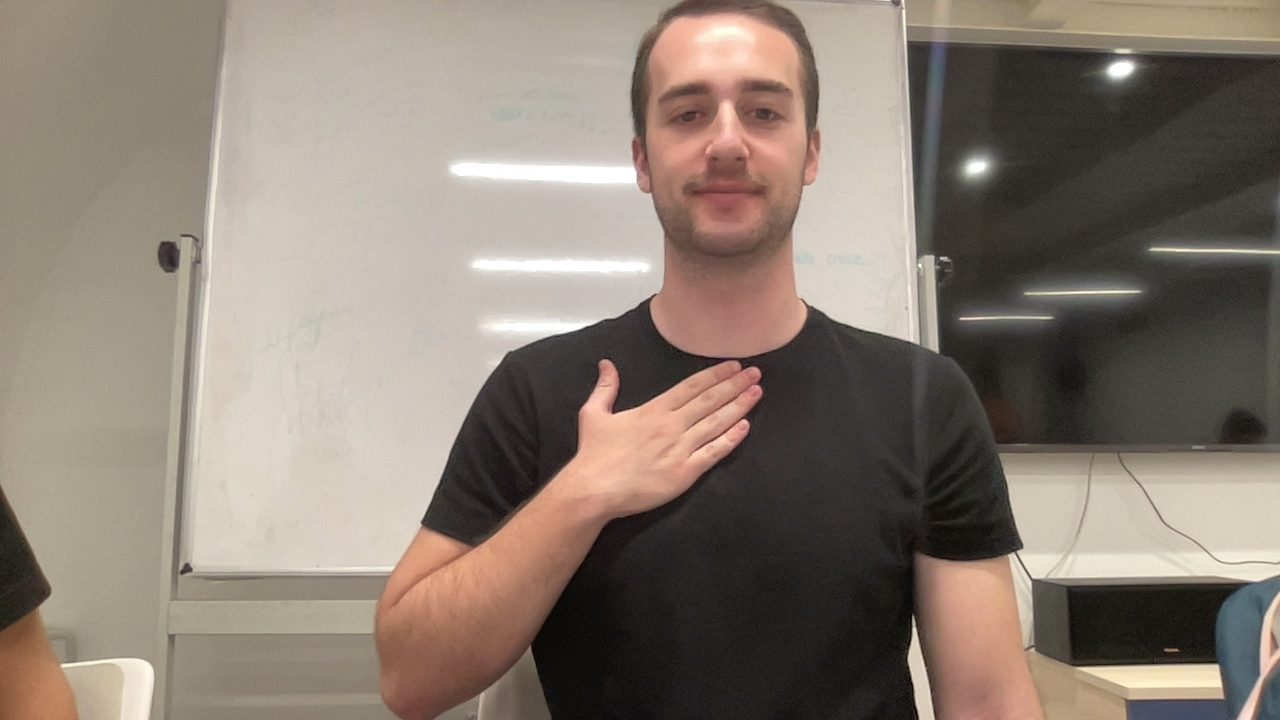Please: (367, 350, 768, 720)
